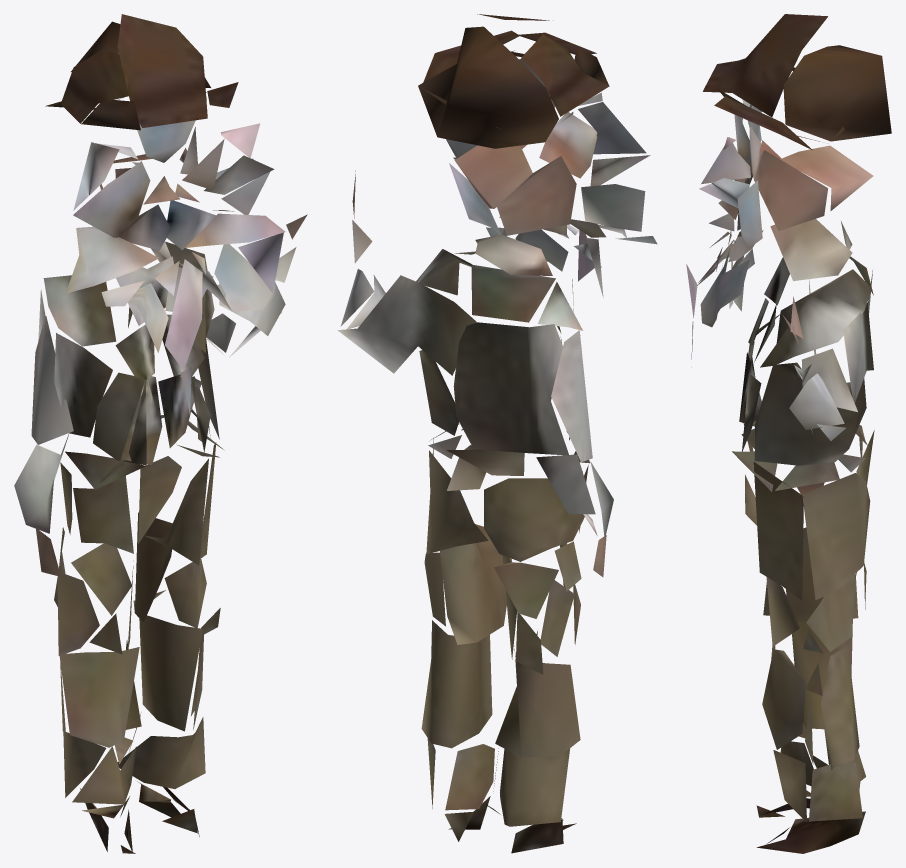
The model's file is cast_annieh_far.glb.
3 views of the same model, side by side, from view 1: azimuth 30°, elevation 25°; view 2: azimuth 150°, elevation 25°; view 3: azimuth 270°, elevation 25° (orthographic). The views are drawn at different scales.
Parts seen in each view (by area): view 1: tripo_node_1126258b-1cb4-43a4-b5b0-aa4036e8409b; view 2: tripo_node_1126258b-1cb4-43a4-b5b0-aa4036e8409b; view 3: tripo_node_1126258b-1cb4-43a4-b5b0-aa4036e8409b.
Boxes of the visible parts, x1,y1,x2,y2 form: tripo_node_1126258b-1cb4-43a4-b5b0-aa4036e8409b: (14, 14, 307, 853); tripo_node_1126258b-1cb4-43a4-b5b0-aa4036e8409b: (337, 14, 657, 853); tripo_node_1126258b-1cb4-43a4-b5b0-aa4036e8409b: (686, 14, 891, 853).
Size of the model in its own units: 0.3487 by 1 by 0.2285.
1 material, 1 textured.
